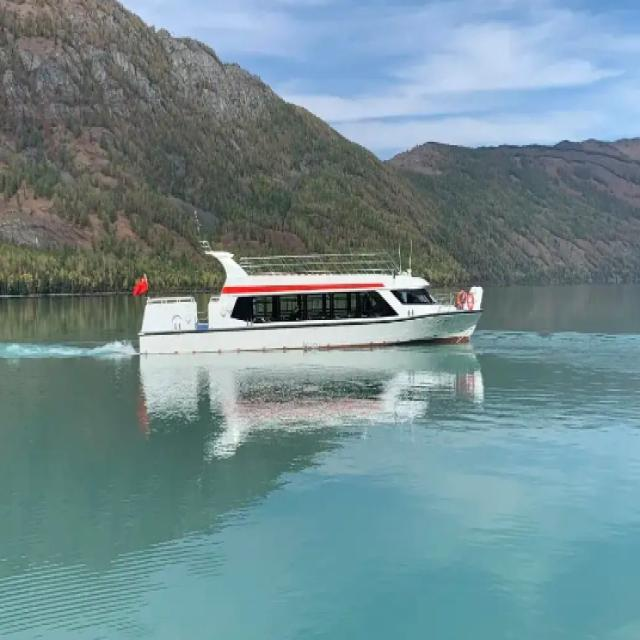houseboat: (139, 230, 492, 364)
